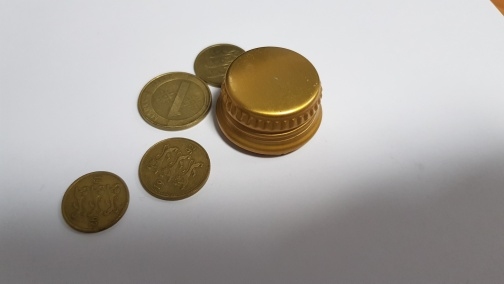coin: (137, 136, 212, 202), (136, 71, 214, 132), (60, 170, 131, 234), (193, 43, 247, 88)
